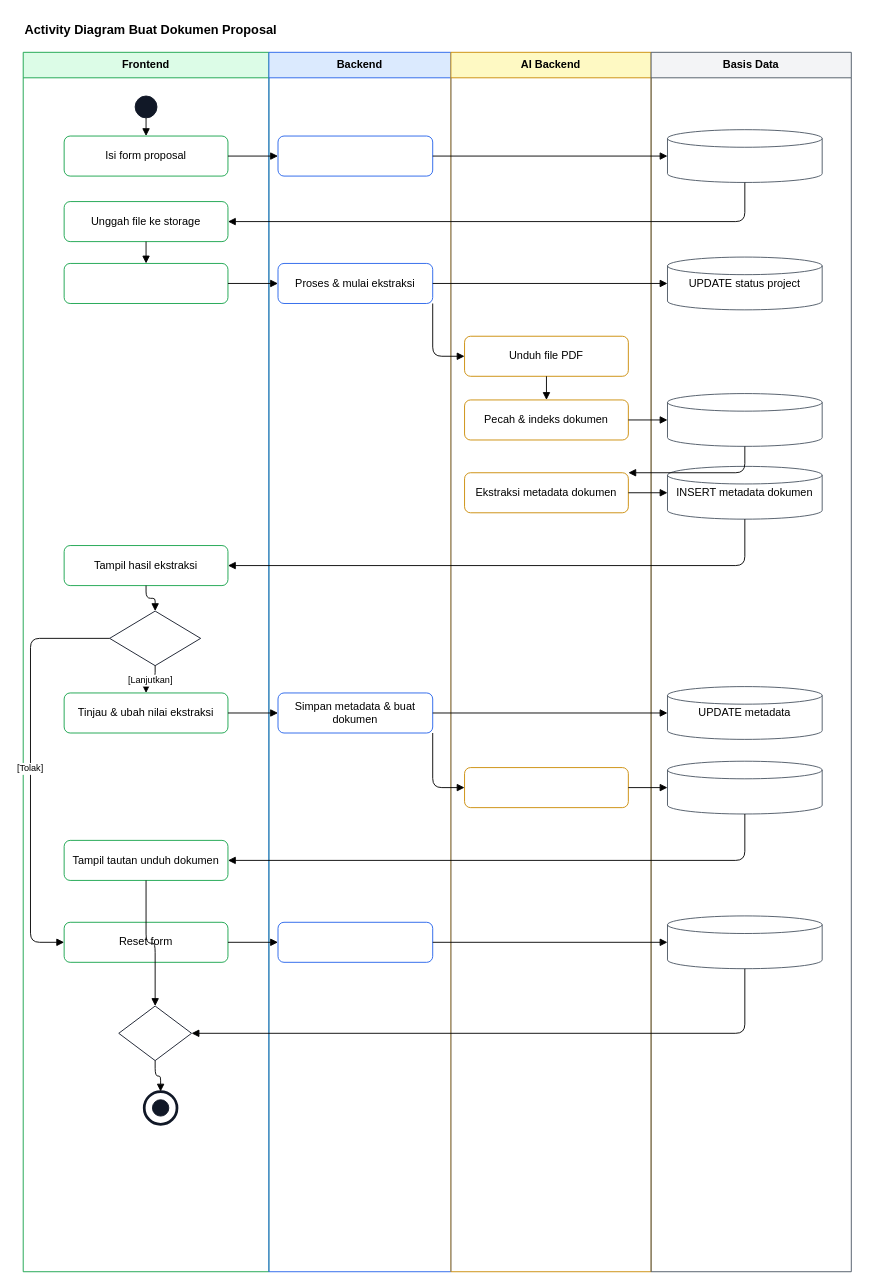
Image size: 875x1288. Some labels were removed from this diagram. The shapes that lost their labels are listed below. From the top down, each one's centre as x and y in pixels, then its label:
At point (355, 155): "Buat project & URL unggah".
At point (744, 155): "INSERT project".
At point (145, 283): "Konfirmasi unggah".
At point (744, 419): "INSERT potongan dokumen".
At point (155, 638): "Lanjutkan atau Tolak?".
At point (546, 787): "Buat & unggah dokumen".
At point (744, 787): "UPDATE status & tautan hasil".
At point (355, 941): "Hapus metadata & project".
At point (744, 942): "DELETE metadata & project".
